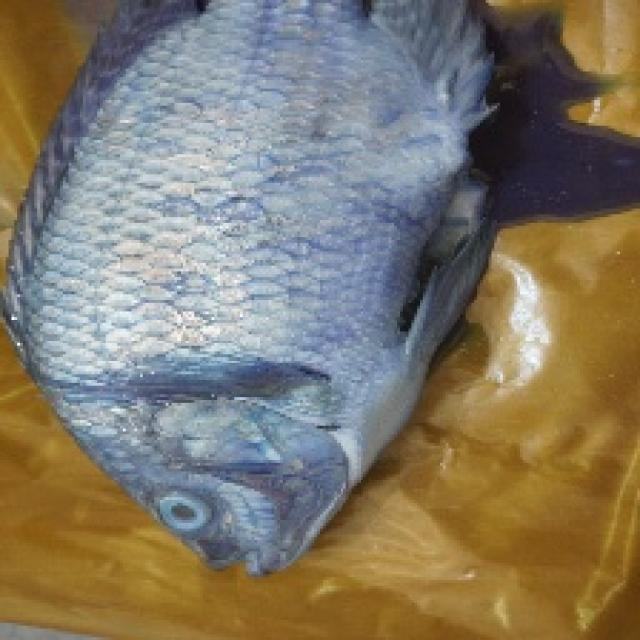Non-Fresh: (36, 90, 452, 579), (146, 479, 224, 546)
